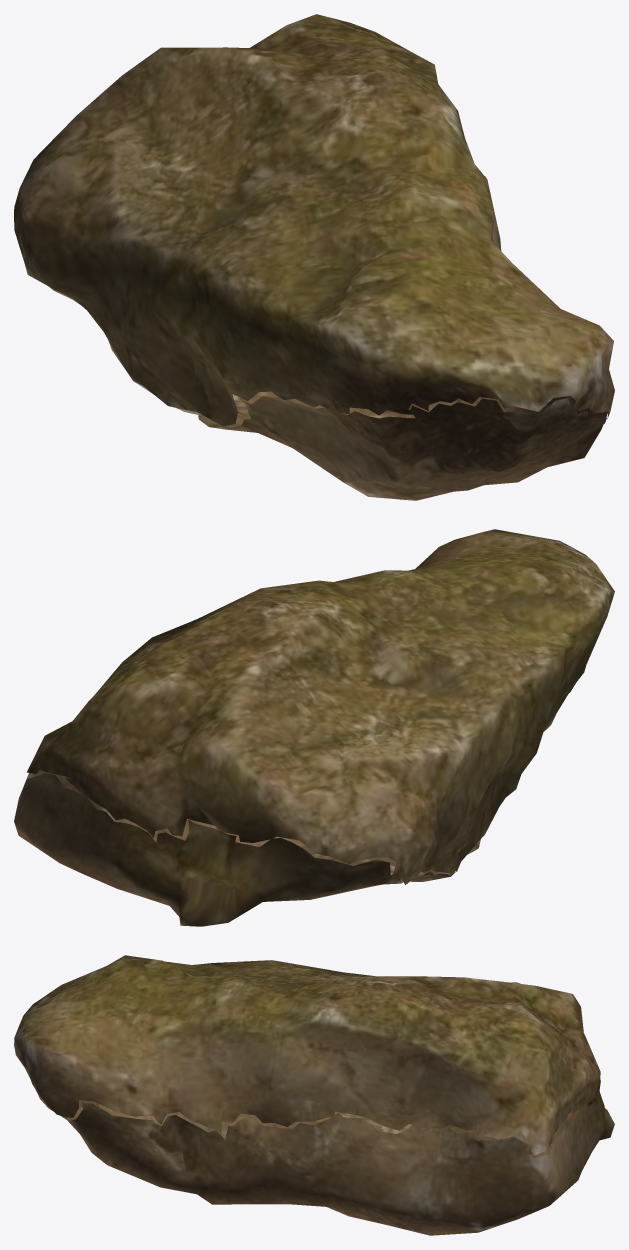
Rendered from rock_moss_set_01_rock05.glb.
The picture shows the model from 3 angles, top to bottom: view 1: azimuth 30°, elevation 25°; view 2: azimuth 150°, elevation 25°; view 3: azimuth 270°, elevation 25°; orthographic projection. The views are drawn at different scales.
Parts seen in each view (by area): view 1: rock_moss_set_01_rock05; view 2: rock_moss_set_01_rock05; view 3: rock_moss_set_01_rock05.
Boxes of the visible parts, x1,y1,x2,y2 form: rock_moss_set_01_rock05: (14, 14, 614, 500); rock_moss_set_01_rock05: (14, 529, 614, 926); rock_moss_set_01_rock05: (14, 955, 614, 1235).
Size of the model in its own units: 1.79 by 1.19 by 2.98.
Materials: 1 (1 with a texture image).
